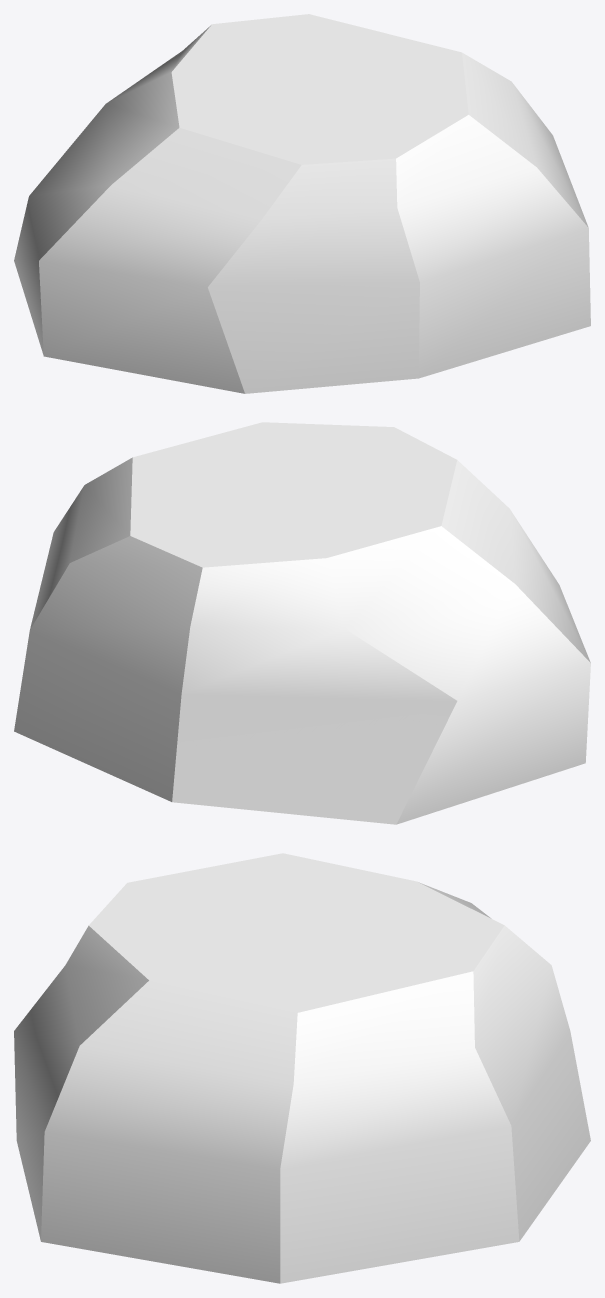
Rendered from WBC Mesh.fbx.
3 renders of one model, top to bottom at view 1: azimuth 30°, elevation 25°; view 2: azimuth 150°, elevation 25°; view 3: azimuth 270°, elevation 25°, orthographic. The views are drawn at different scales.
Parts seen in each view (by area): view 1: pCylinder1; view 2: pCylinder1; view 3: pCylinder1.
Boxes of the visible parts, x1=… form: pCylinder1: x1=14, y1=14, x2=590, y2=393; pCylinder1: x1=14, y1=422, x2=590, y2=824; pCylinder1: x1=14, y1=853, x2=590, y2=1283.
Bounding box in the file's own units: 1.79 × 0.6379 × 1.51.
